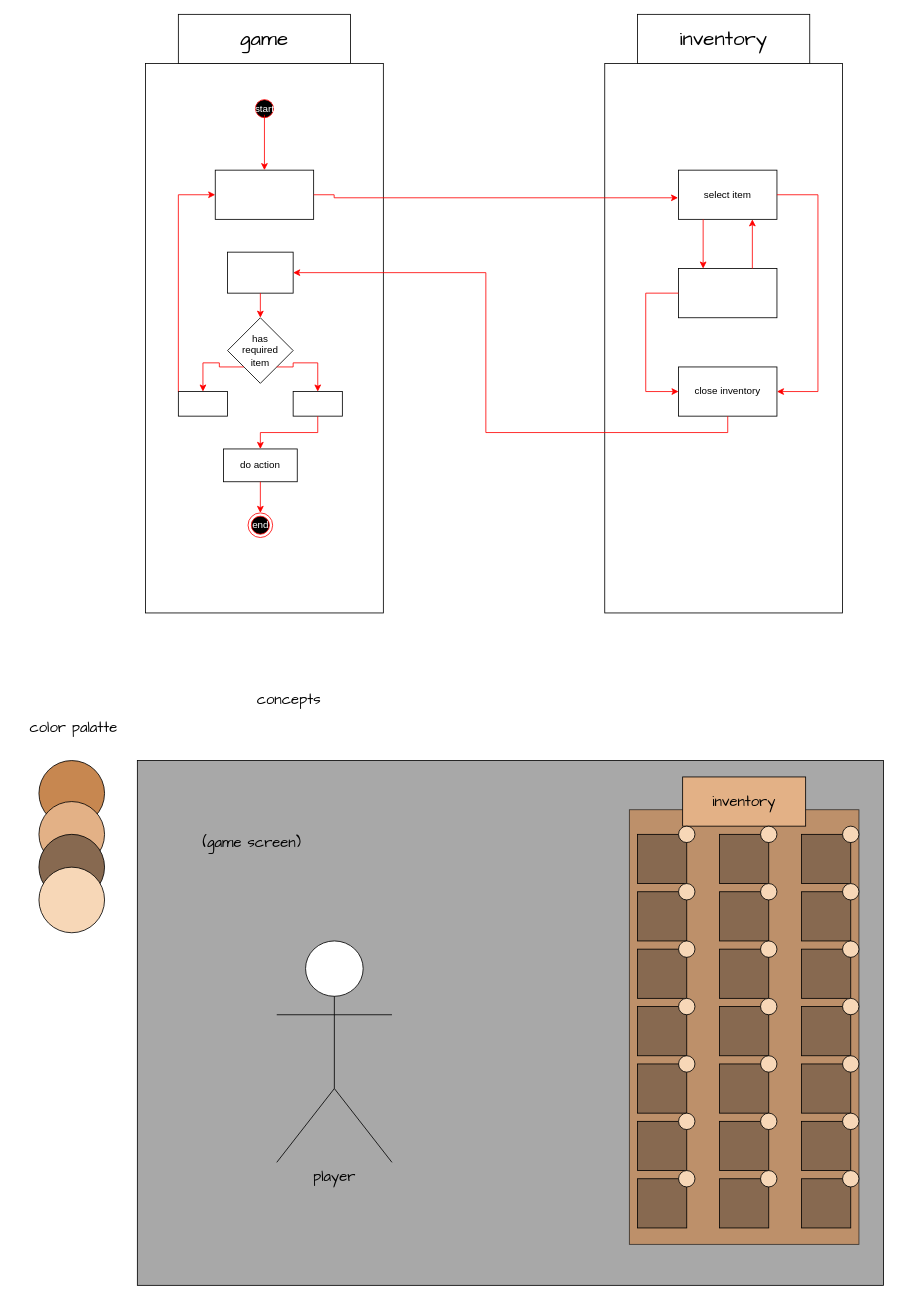
Some shapes in this 898 by 1300 pixel diagram are drawn without their labels. Here are the shapes that lost their labels. From the top down, the centre of each, then its label:
At point 264,194: "open inventory".
At point 260,272: "action".
At point 727,293: "deselect item".
At point 203,403: "no".
At point 317,403: "yes".
